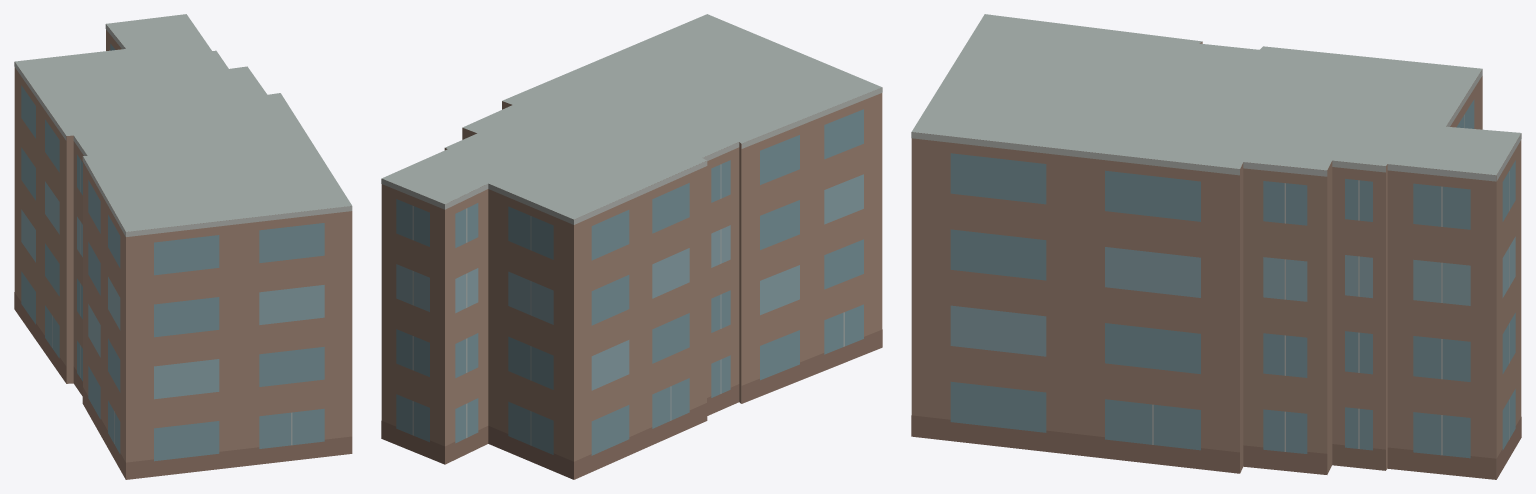
File: survey-upis-32749194.glb
3 renders of one model, left to right at view 1: azimuth 30°, elevation 25°; view 2: azimuth 150°, elevation 25°; view 3: azimuth 270°, elevation 25°, orthographic. The views are drawn at different scales.
Parts seen in each view (by area): view 1: survey-upis-32749194.tmp; view 2: survey-upis-32749194.tmp; view 3: survey-upis-32749194.tmp.
Boxes of the visible parts, box(x1,y1,x2,y2) form: survey-upis-32749194.tmp: box(14, 14, 352, 479); survey-upis-32749194.tmp: box(381, 14, 882, 479); survey-upis-32749194.tmp: box(911, 14, 1521, 479).
Bounding box in the file's own units: 13.29 × 11.7 × 21.24.
